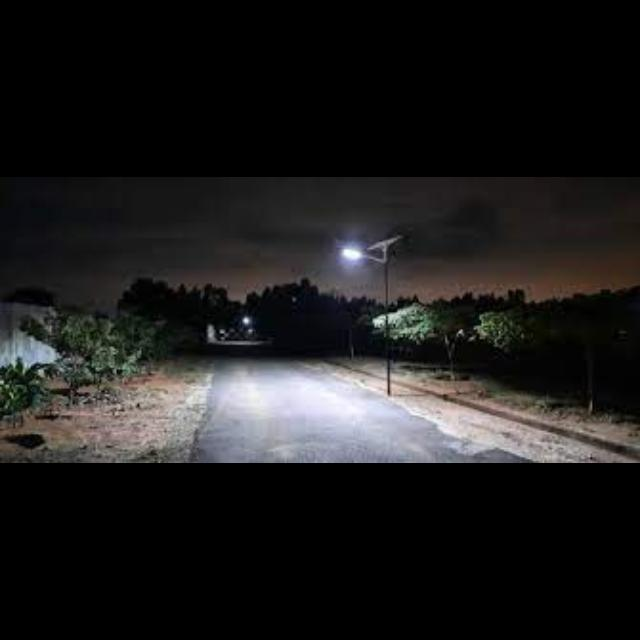Street-Lamp: (326, 215, 414, 409)
